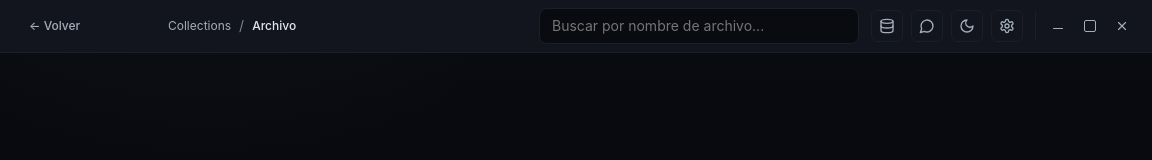
Test: TopBar › exposes combobox semantics for the global search dropdown
Type "acta" into the dropdown named "Buscar archivos".
click(699, 26); type("acta")  # box [539,8,859,44]
Wait 550 ms
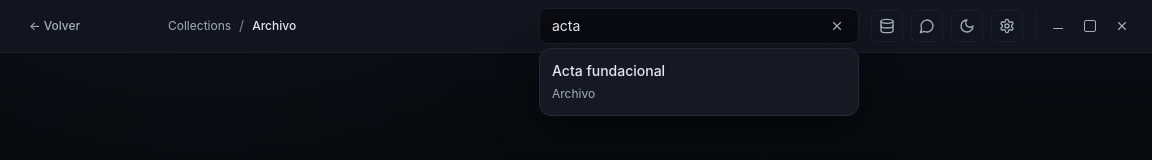
Check: the list named "Buscar archivos" is shown, box [539,48,859,116]
Check: the dropdown named "Buscar archivos" is expanded, box [539,8,859,44]
Check: the option "Acta fundacional Archivo" is shown, box [540,49,858,115]
